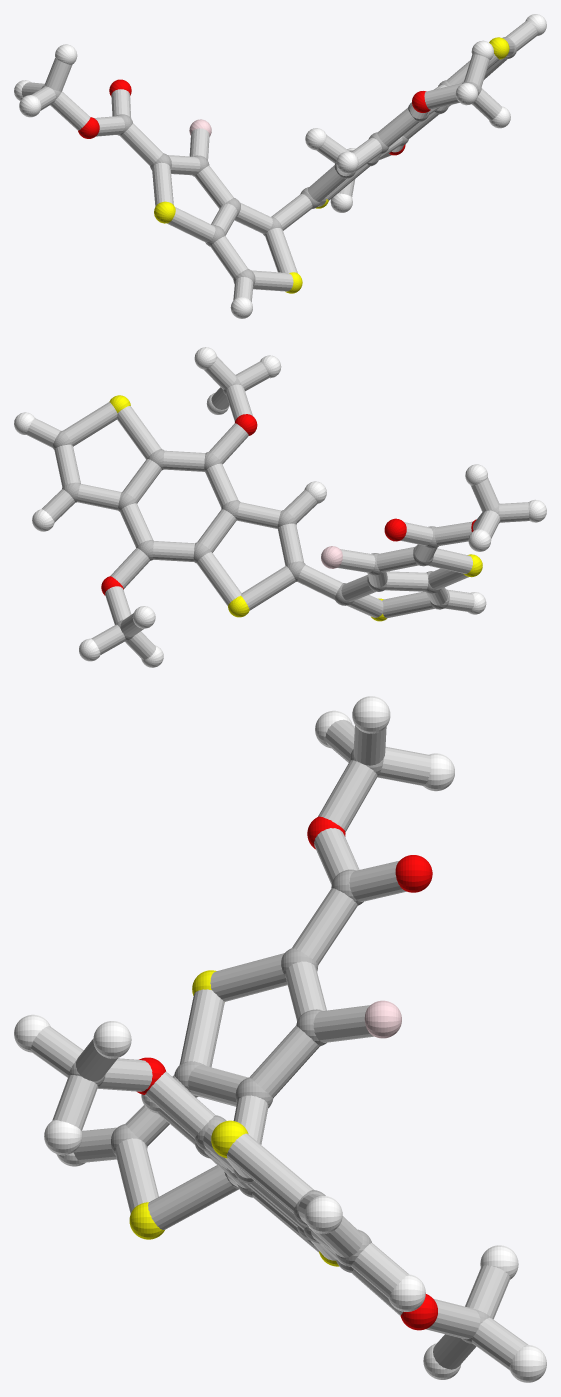
File: color.glb
3 renders of one model, top to bottom at view 1: azimuth 30°, elevation 25°; view 2: azimuth 150°, elevation 25°; view 3: azimuth 270°, elevation 25°, orthographic. The views are drawn at different scales.
Visible parts, largest first — view 1: grp15205, grp8689, grp1, grp7241, grp13395; view 2: grp15205, grp8689, grp1, grp13395, grp7241, grp14843; view 3: grp15205, grp8689, grp1, grp13395, grp7241, grp14843.
Boxes of the visible parts, x1,y1,x2,y2 form: grp15205: (21,21,537,301); grp8689: (14,14,546,318); grp1: (41,37,516,285); grp7241: (154,37,509,293); grp13395: (78,79,430,155); grp15205: (26,356,529,659); grp8689: (14,347,546,667); grp1: (52,377,499,640); grp13395: (101,414,476,595); grp7241: (109,395,482,621); grp14843: (321,546,342,568); grp15205: (30,719,528,1370); grp8689: (14,696,546,1382); grp1: (68,749,490,1343); grp13395: (137,816,437,1330); grp7241: (129,970,339,1266); grp14843: (364,1000,401,1038).
Size of the model in its own units: 16.13 by 7.51 by 8.37.
